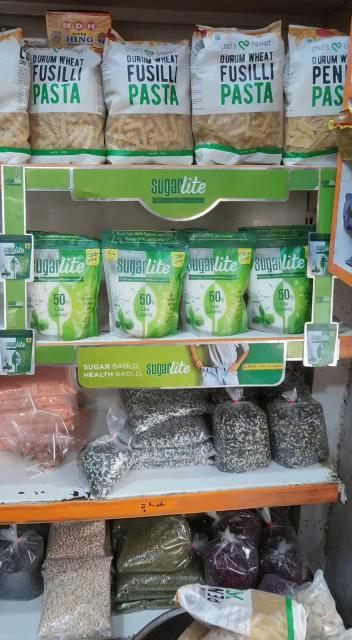SUGARLITE POUCH 500G: (27, 232, 98, 342), (106, 232, 179, 338), (183, 232, 253, 332), (254, 231, 319, 331)
